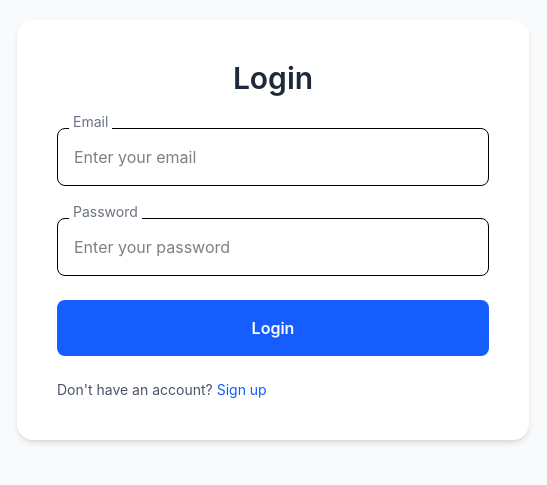
Test case: auth flow › shows an error for invalid login credentials
The image size is (547, 485).
Type "wrong@test.com" into the field with test id "auth-login-email" at coordinates (273, 157), box x1=57 y1=128 x2=489 y2=186
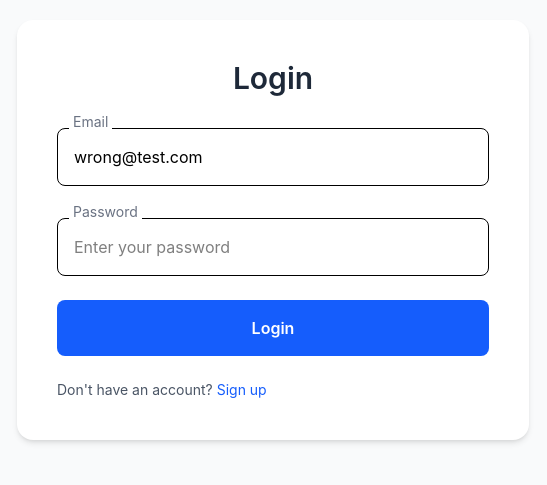
Type "wrongpass" into the password field with test id "auth-login-password" at coordinates (273, 247), box x1=57 y1=218 x2=489 y2=276
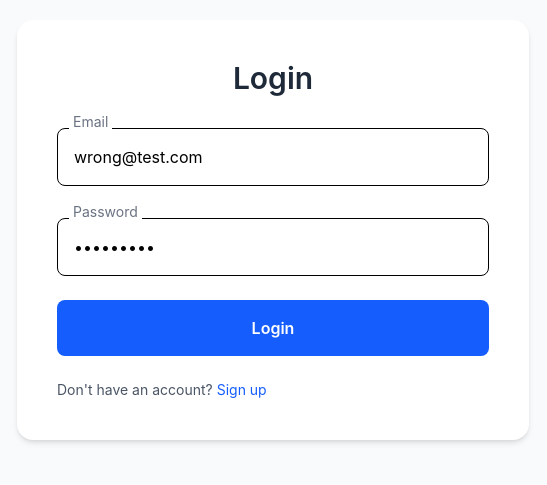
Click the button with test id "auth-login-submit" at coordinates (273, 328), box x1=57 y1=300 x2=489 y2=356
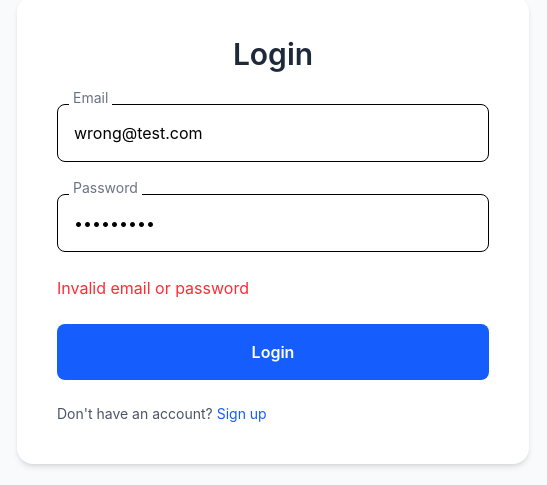
Expected: the text "Invalid email or password" is shown, x1=57 y1=278 x2=249 y2=298
